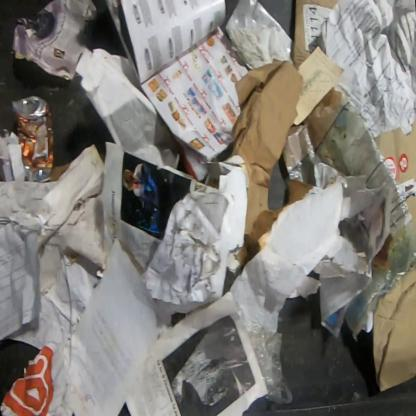cardboard: (229, 56, 303, 236), (372, 262, 416, 392), (373, 116, 415, 247), (292, 46, 346, 125), (294, 0, 340, 69)
metal: (11, 95, 54, 182)
soft_plastic: (243, 319, 293, 405)
